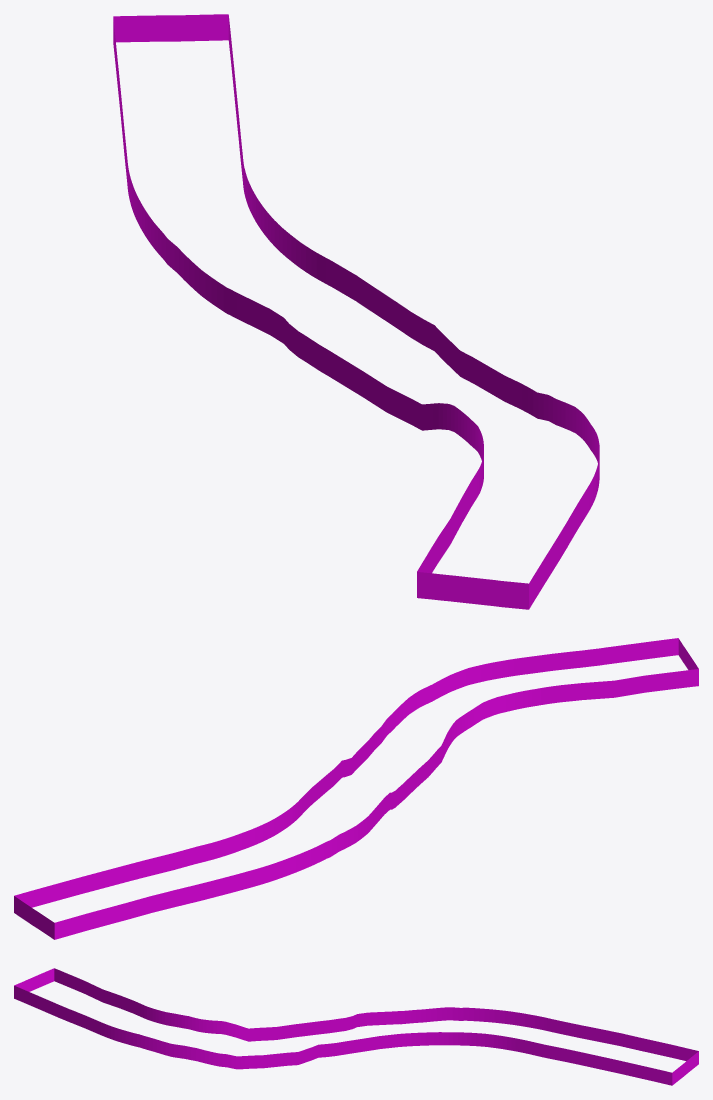
The model's file is sGiangGPMB.glb.
3 views of the same model, one above another, from view 1: azimuth 30°, elevation 25°; view 2: azimuth 150°, elevation 25°; view 3: azimuth 270°, elevation 25° (orthographic). The views are drawn at different scales.
Parts seen in each view (by area): view 1: IfcBuildingElementProxy/Unnamed; view 2: IfcBuildingElementProxy/Unnamed; view 3: IfcBuildingElementProxy/Unnamed.
Boxes of the visible parts, <box> form: IfcBuildingElementProxy/Unnamed: <box>113,14,599,609</box>; IfcBuildingElementProxy/Unnamed: <box>14,638,698,939</box>; IfcBuildingElementProxy/Unnamed: <box>14,968,698,1085</box>.
Bounding box in the file's own units: 172 × 21.85 × 474.
